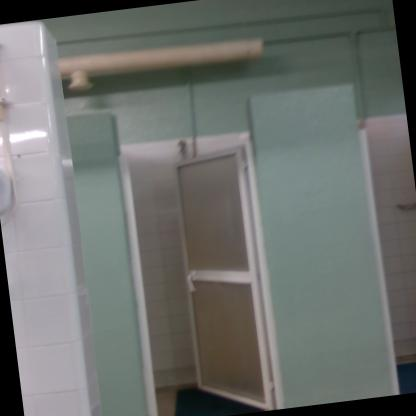open: (74, 102, 305, 415)
